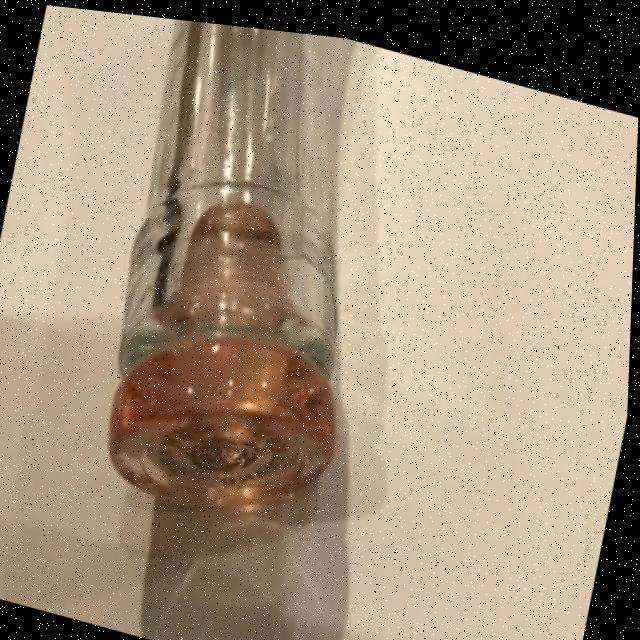glass: (77, 8, 421, 550)
